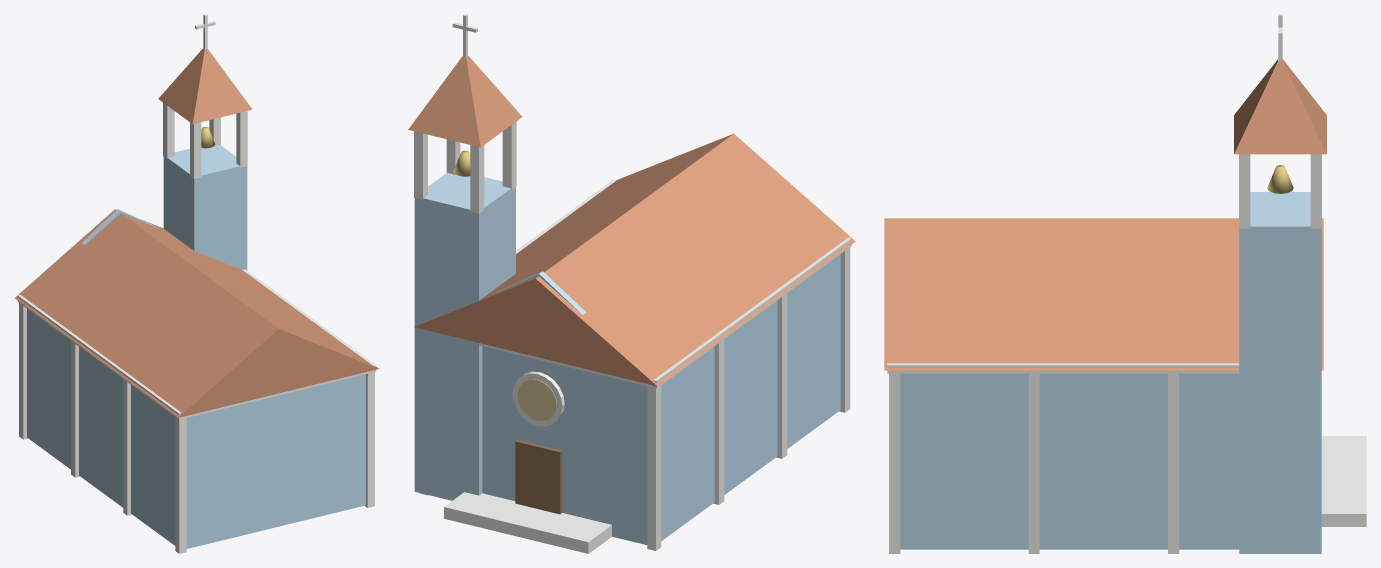
The model's file is Iglesia_Candelaria_v2.fbx.
3 views of the same model, side by side, from view 1: azimuth 30°, elevation 25°; view 2: azimuth 150°, elevation 25°; view 3: azimuth 270°, elevation 25° (orthographic). The views are drawn at different scales.
Parts seen in each view (by area): view 1: Cube.001, CandRoof, Cube.012, Cone.001, Cube.010, Cube.002, Cube.006, Cube.004, Cube.005, Cube.003, Cube.013, Cube.015 (+1 smaller); view 2: CandRoof, Cube.001, Cube.012, Cone.001, Cube, Cube.011, Cube.010, Cube.005, Cube.002, Cube.003, Cube.004, Cylinder.001 (+4 smaller); view 3: Cube.001, CandRoof, Cube.012, Cone.001, Cube, Cube.010, Cube.006, Cube.007, Cube.008, Cube.015, Cube.016.
Part boxes in pixels (box(x1,y1,x2,y2)): Cube.001: box(27, 309, 365, 548); CandRoof: box(14, 209, 379, 417); Cube.012: box(163, 145, 247, 270); Cone.001: box(158, 48, 252, 123); Cube.010: box(17, 269, 376, 419); Cube.002: box(175, 417, 186, 553); Cube.006: box(364, 372, 374, 507); Cube.004: box(71, 341, 79, 477); Cube.005: box(19, 303, 27, 439); Cube.003: box(123, 379, 131, 515); Cube.013: box(190, 122, 201, 178); Cube.015: box(236, 111, 247, 167); CandRoof: box(414, 133, 855, 386); Cube.001: box(482, 254, 840, 544); Cube.012: box(414, 172, 515, 500); Cone.001: box(408, 55, 522, 147); Cube: box(444, 492, 611, 553); Cube.011: box(515, 440, 562, 514); Cube.010: box(479, 180, 851, 388); Cube.005: box(647, 385, 661, 550); Cube.002: box(839, 247, 850, 412); Cube.003: box(776, 293, 787, 458); Cube.004: box(713, 339, 724, 504); Cylinder.001: box(517, 379, 556, 421); Cube.001: box(900, 373, 1239, 549); CandRoof: box(884, 218, 1323, 370); Cube.012: box(1239, 192, 1321, 553); Cone.001: box(1234, 59, 1326, 154); Cube: box(1321, 436, 1366, 526); Cube.010: box(887, 363, 1239, 373); Cube.006: box(889, 373, 900, 553); Cube.007: box(1028, 373, 1039, 553); Cube.008: box(1168, 373, 1179, 553); Cube.015: box(1239, 154, 1250, 228); Cube.016: box(1310, 154, 1321, 228).
Bounding box in the file's own units: 15.46 × 28.15 × 23.5.
